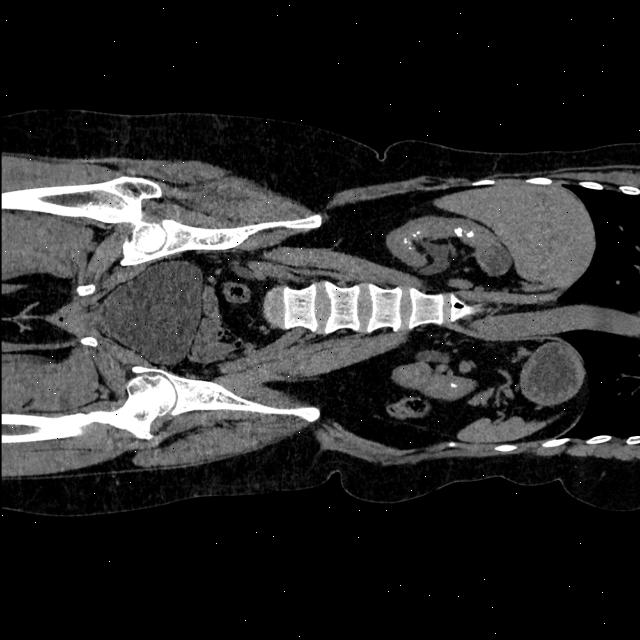kidneystone: (453, 228, 463, 237), (466, 231, 473, 238), (449, 382, 456, 389), (413, 231, 419, 236), (403, 239, 405, 241)
